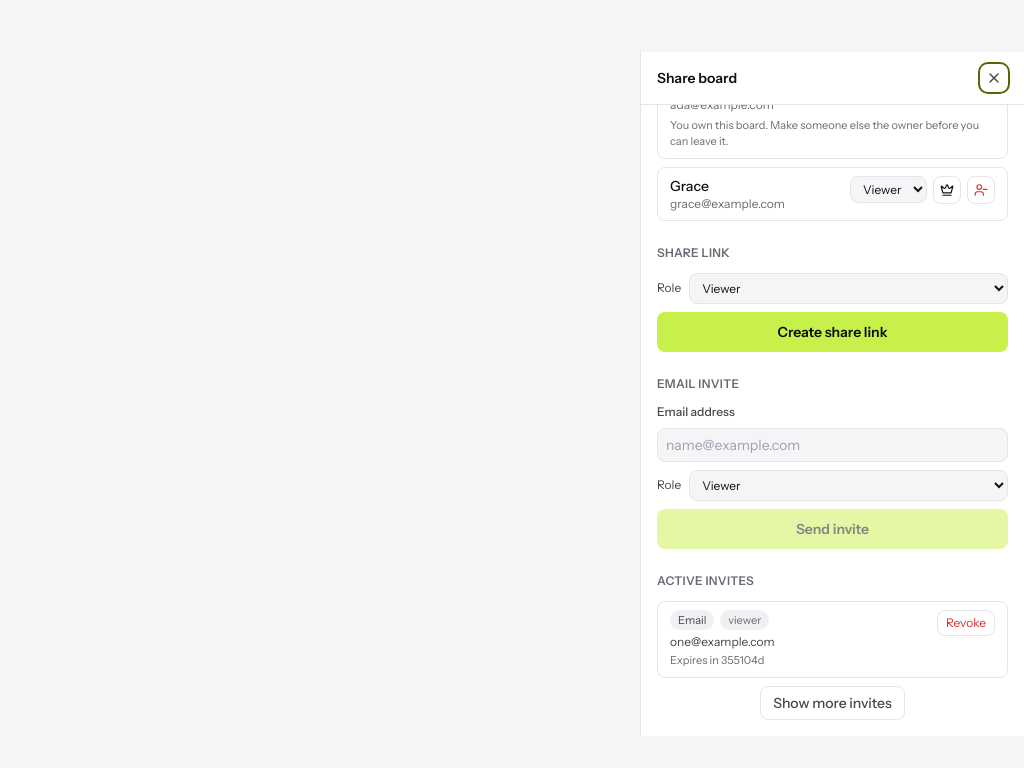
Scenario: BoardSharingPanel › shows more invites on demand and surfaces a failed page
(page scrolled)
Expected: the text "one@example.com" is shown, [670, 634, 775, 649]
What coordinates should you click on to do the following:
click the button "Show more invites"
I would click on:
 (833, 702)
Its box is [760, 686, 905, 720].
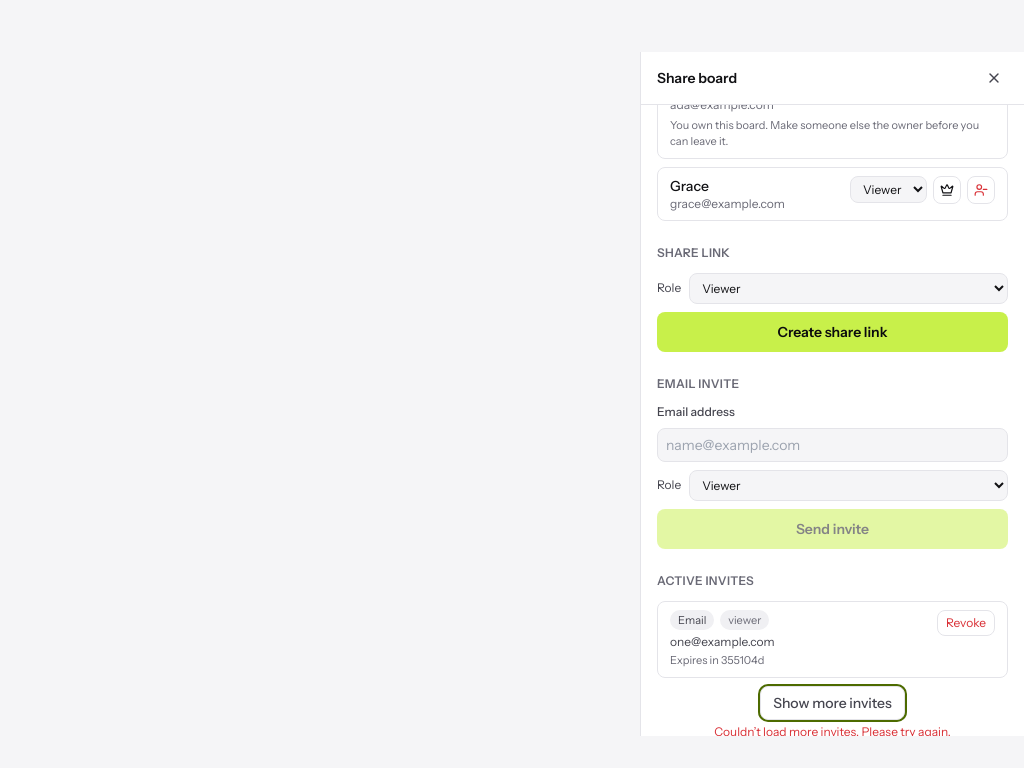
Expected: the text "Couldn’t load more invites. Please try again." is shown, [714, 724, 951, 736]
What coordinates should you click on to do the following:
click the button "Show more invites"
I would click on:
 (833, 702)
Its box is [760, 686, 905, 720].
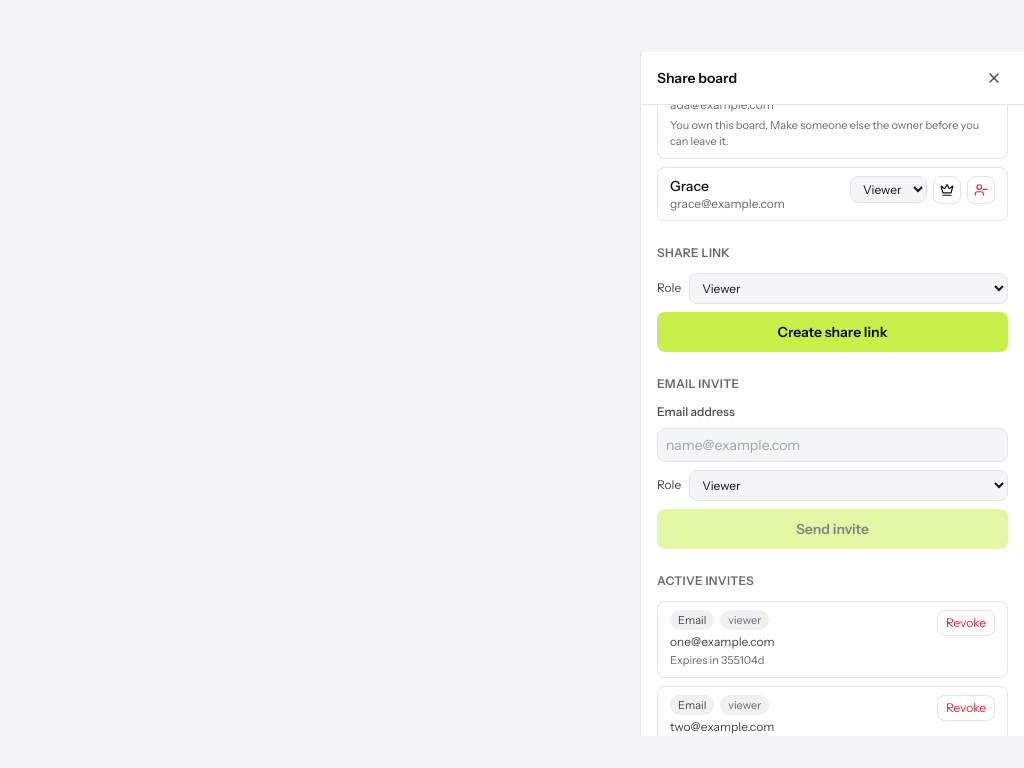
Expected: the text "two@example.com" is shown, [670, 719, 774, 734]
